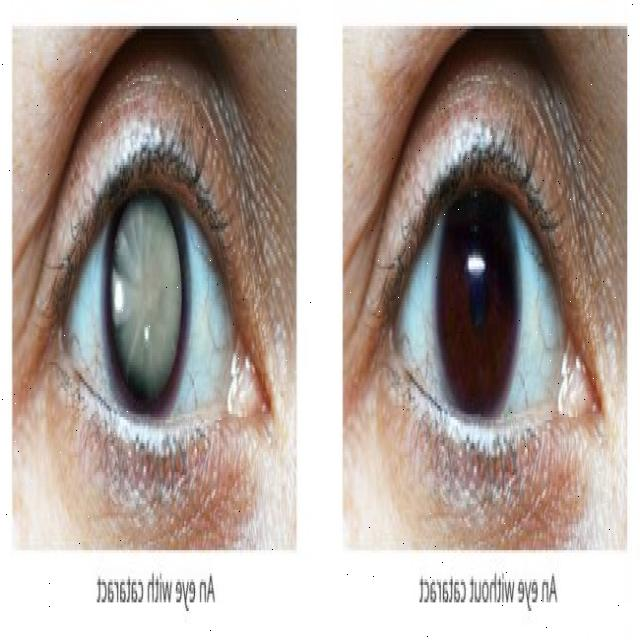Cataract: (100, 157, 189, 435)
Normal: (435, 157, 521, 420)
